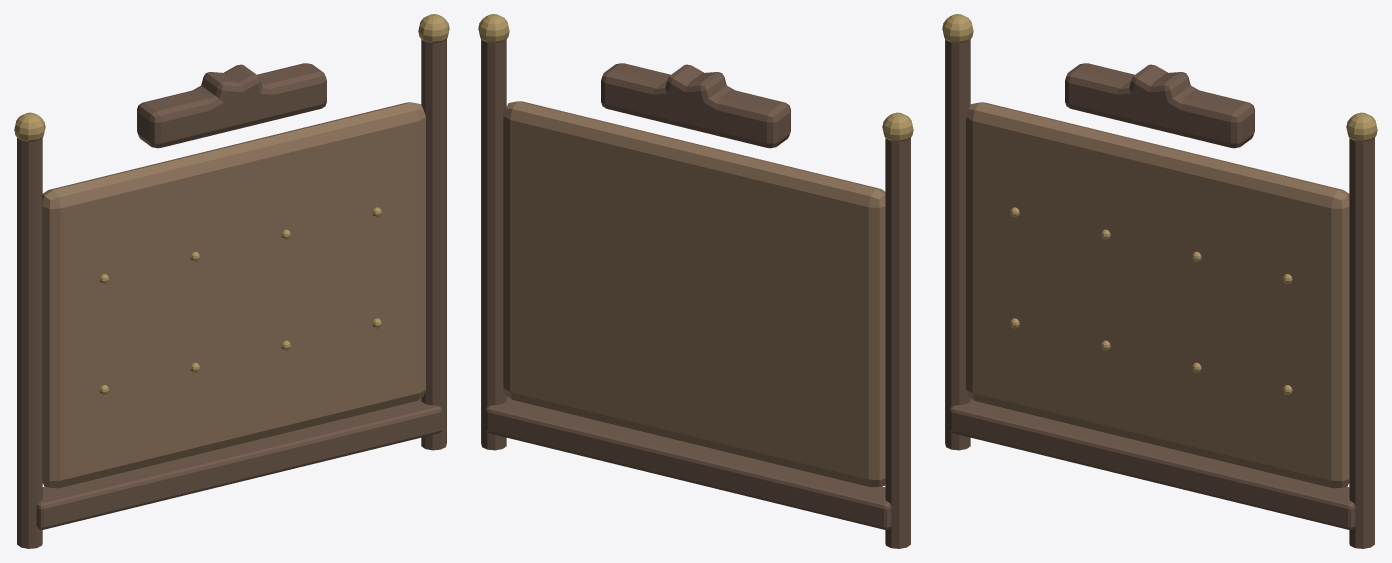
3 renders of one model, left to right at view 1: azimuth 30°, elevation 25°; view 2: azimuth 150°, elevation 25°; view 3: azimuth 330°, elevation 25°, orthographic.
Parts seen in each view (by area): view 1: headboard; view 2: headboard; view 3: headboard.
Boxes of the visible parts, x1,y1,x2,y2 form: headboard: (14, 14, 449, 548); headboard: (478, 14, 913, 548); headboard: (942, 14, 1377, 548).
Size of the model in its own units: 1.7 by 1.63 by 0.146.
